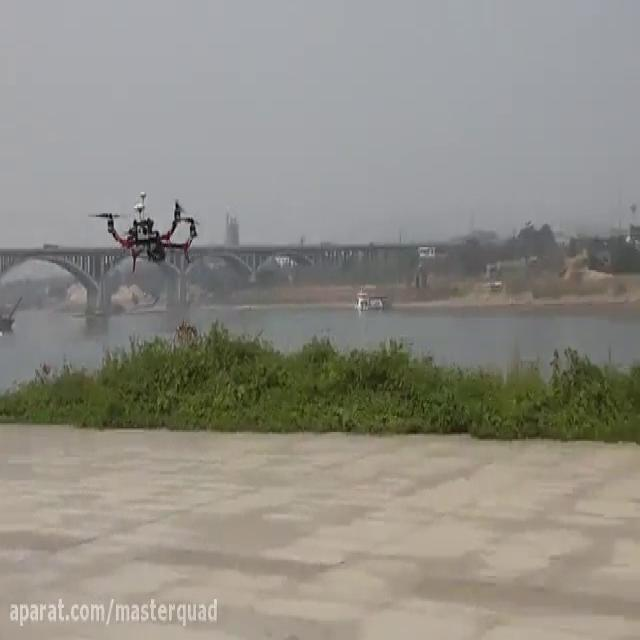drone: (82, 185, 201, 275)
